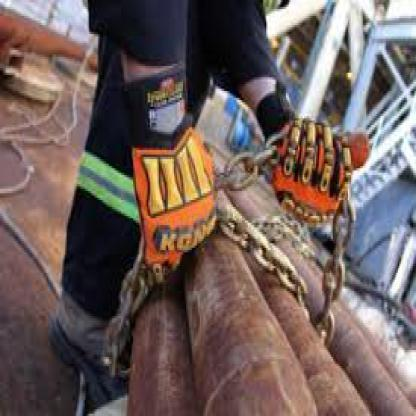with_gloves: (127, 63, 218, 264), (259, 89, 366, 225)
